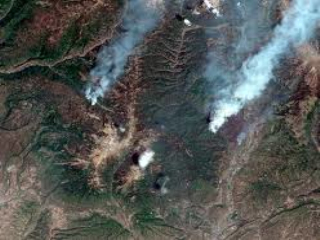smoke: (198, 1, 314, 139), (88, 1, 166, 110), (131, 147, 162, 167)
